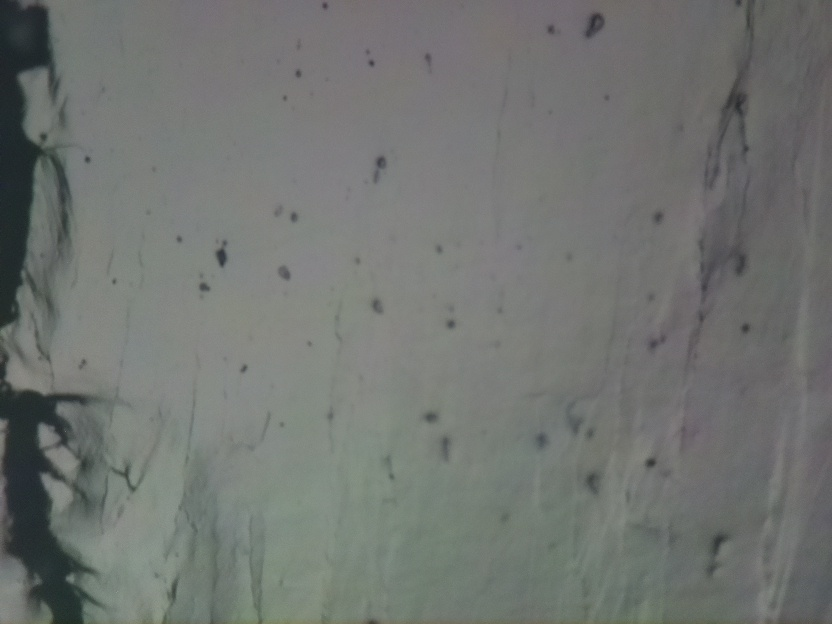crack: (0, 0, 84, 623)
